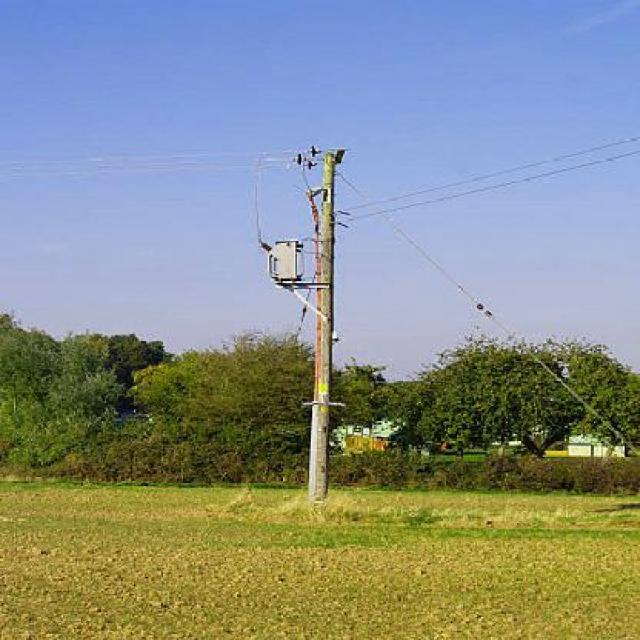pole: (265, 145, 377, 500)
